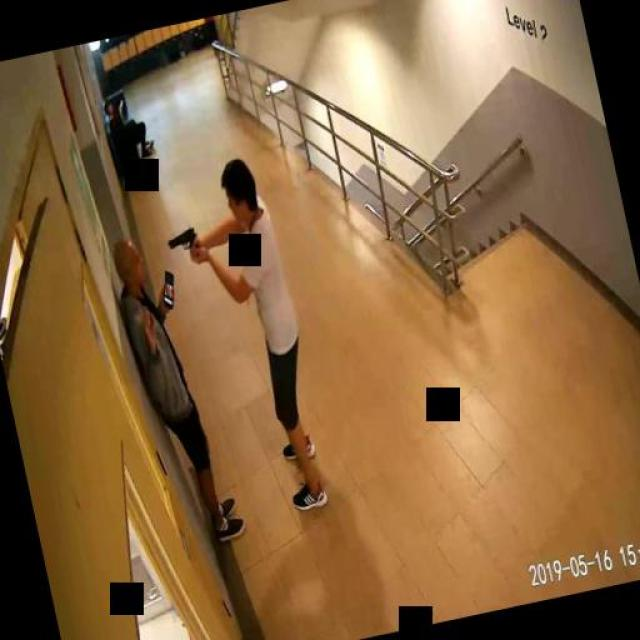gun: (162, 225, 200, 266)
